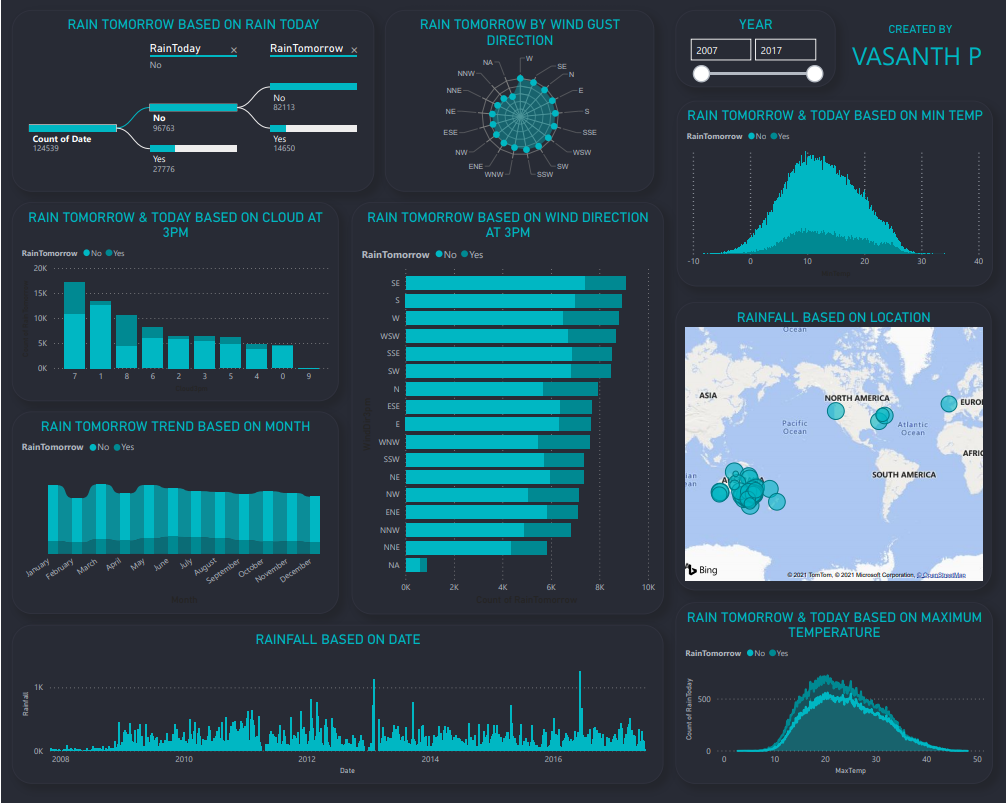

What the dashboard file says about the page in this screenshot:
{"tool":"powerbi","page":{"name":"Page 1","canvas":[1500,1200],"ordinal":0},"visuals":[{"type":"columnChart","title":"RAIN TOMORROW & TODAY BASED ON CLOUD AT 3PM","fields":{"Series":["weatherAUS.RainTomorrow"],"Y":["CountNonNull(weatherAUS.RainTomorrow)"],"Category":["weatherAUS.Cloud3pm","weatherAUS.Cloud9am"]},"box":[15.9,304.5,487.6,296.5],"z":0},{"type":"decompositionTreeVisual","title":"RAIN TOMORROW BASED ON RAIN TODAY","fields":{"Analyze":["CountNonNull(weatherAUS.Date)"],"ExplainBy":["weatherAUS.RainToday","weatherAUS.RainTomorrow"]},"box":[15.9,17.9,541.3,270.6],"z":1000},{"type":"ribbonChart","title":"RAIN TOMORROW TREND BASED ON MONTH","fields":{"Category":["weatherAUS.Date.Variation.Date Hierarchy.Month"],"Y":["CountNonNull(weatherAUS.RainTomorrow)"],"Series":["weatherAUS.RainTomorrow"]},"box":[15.9,616.9,487.6,302.5],"z":2000},{"type":"barChart","title":"RAIN TOMORROW BASED ON WIND DIRECTION AT 3PM","fields":{"Category":["weatherAUS.WindDir3pm"],"Y":["CountNonNull(weatherAUS.RainTomorrow)"],"Series":["weatherAUS.RainTomorrow"]},"box":[523.4,304.5,465.7,614.9],"z":3000},{"type":"RadarChart1446119667547","title":"RAIN TOMORROW BY WIND GUST DIRECTION","fields":{"Category":["weatherAUS.WindGustDir"],"Y":["CountNonNull(weatherAUS.RainTomorrow)"]},"box":[573.1,17.9,402,270.6],"z":4000},{"type":"ribbonChart","title":"RAIN TOMORROW & TODAY BASED ON MIN TEMP","fields":{"Category":["weatherAUS.MinTemp"],"Series":["weatherAUS.RainTomorrow"],"Y":["CountNonNull(weatherAUS.Date)"]},"box":[1009,153.2,471.6,276.6],"z":5000},{"type":"stackedAreaChart","title":"RAIN TOMORROW & TODAY BASED ON MAXIMUM TEMPERATURE","fields":{"Category":["weatherAUS.MaxTemp"],"Series":["weatherAUS.RainTomorrow"],"Y":["CountNonNull(weatherAUS.RainToday)"]},"box":[1007,901.5,473.6,270.6],"z":6000},{"type":"map","title":"RAINFALL BASED ON LOCATION","fields":{"Category":["weatherAUS.Location"],"Size":["CountNonNull(weatherAUS.RainTomorrow)"]},"box":[1007,453.7,471.6,429.9],"z":7000},{"type":"clusteredColumnChart","title":"RAINFALL BASED ON DATE","fields":{"Category":["weatherAUS.Date"],"Y":["Sum(weatherAUS.Rainfall)"]},"box":[15.9,935.3,973.1,236.8],"z":8000},{"type":"slicer","title":"YEAR","fields":{"Values":["weatherAUS.Date.Variation.Date Hierarchy.Year"]},"box":[1007,17.9,238.8,115.4],"z":9000},{"type":"textbox","title":"CREATED BY","box":[1265.7,35.8,214.9,79.6],"z":10000}]}

Visuals, with their boxes in screenshot pixels (x1, y1, x2, y2), scaled from the page's 1500x1200 canvas onto the 1006x805 screenshot:
"RAIN TOMORROW & TODAY BASED ON CLOUD AT 3PM" columnChart: left=11, top=204, right=338, bottom=403
"RAIN TOMORROW BASED ON RAIN TODAY" decompositionTreeVisual: left=11, top=12, right=374, bottom=194
"RAIN TOMORROW TREND BASED ON MONTH" ribbonChart: left=11, top=414, right=338, bottom=617
"RAIN TOMORROW BASED ON WIND DIRECTION AT 3PM" barChart: left=351, top=204, right=663, bottom=617
"RAIN TOMORROW BY WIND GUST DIRECTION" RadarChart1446119667547: left=384, top=12, right=654, bottom=194
"RAIN TOMORROW & TODAY BASED ON MIN TEMP" ribbonChart: left=677, top=103, right=993, bottom=288
"RAIN TOMORROW & TODAY BASED ON MAXIMUM TEMPERATURE" stackedAreaChart: left=675, top=605, right=993, bottom=786
"RAINFALL BASED ON LOCATION" map: left=675, top=304, right=992, bottom=593
"RAINFALL BASED ON DATE" clusteredColumnChart: left=11, top=627, right=663, bottom=786
"YEAR" slicer: left=675, top=12, right=836, bottom=89
"CREATED BY" textbox: left=849, top=24, right=993, bottom=77
